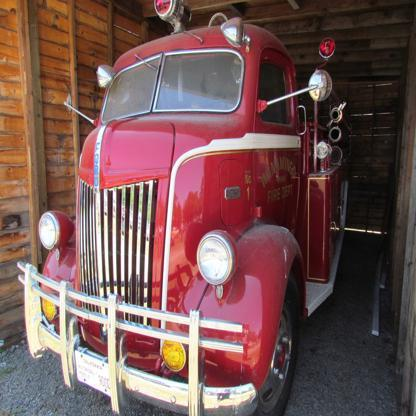fire-truck: (25, 6, 363, 416)
